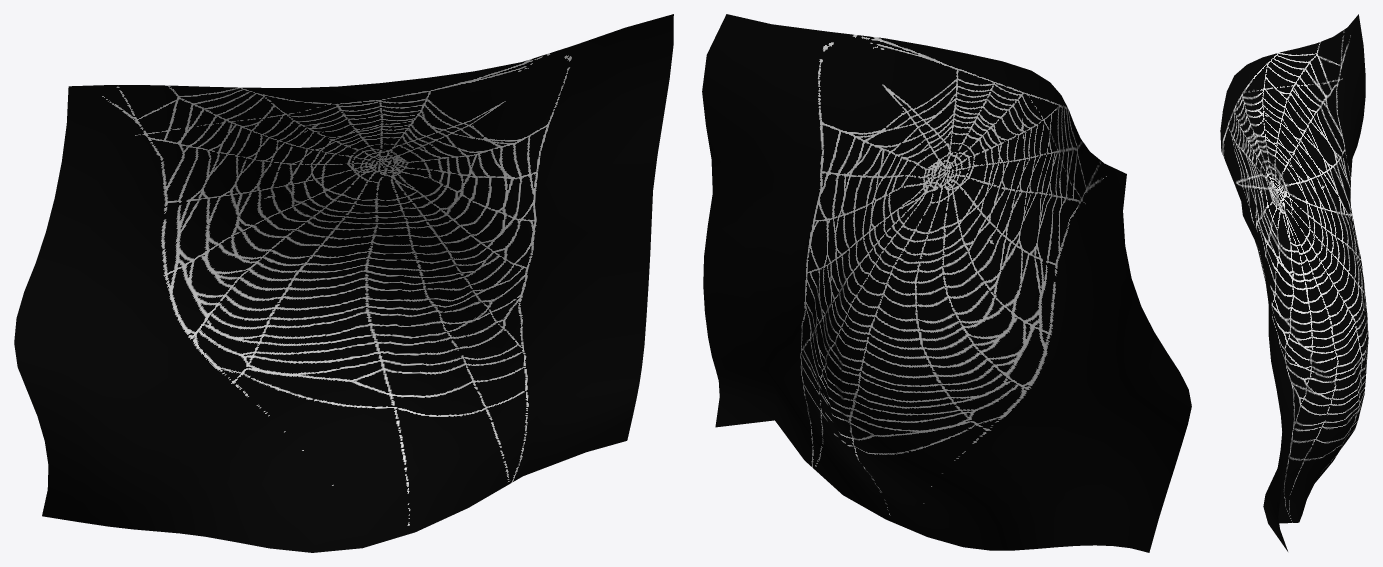
File: Spiderweb_02.fbx
3 views of the same model, side by side, from view 1: azimuth 30°, elevation 25°; view 2: azimuth 150°, elevation 25°; view 3: azimuth 270°, elevation 25° (orthographic). The views are drawn at different scales.
Visible parts, largest first — view 1: Plane.001; view 2: Plane.001; view 3: Plane.001.
Part boxes in pixels (x1=…): Plane.001: x1=14, y1=14, x2=673, y2=552; Plane.001: x1=702, y1=14, x2=1191, y2=552; Plane.001: x1=1220, y1=14, x2=1368, y2=551.
Bounding box in the file's own units: 31.99 × 25.96 × 8.78.
